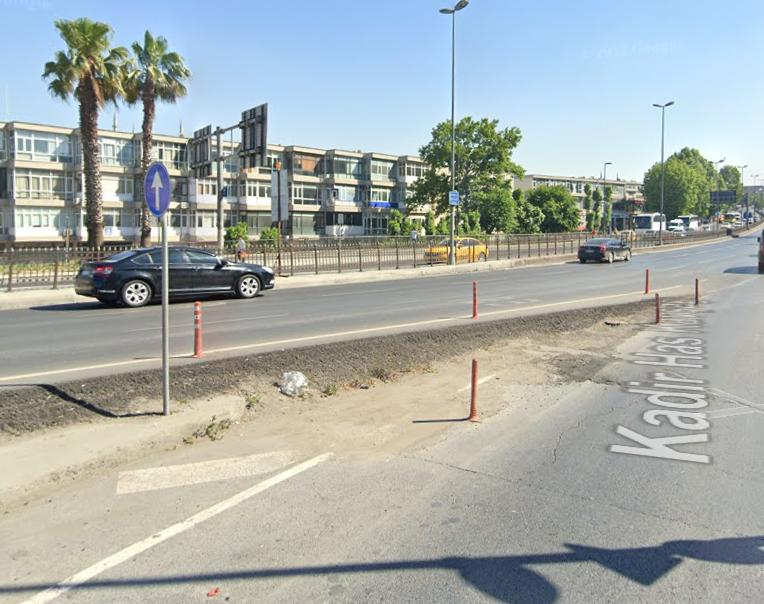forward: (139, 157, 173, 222)
